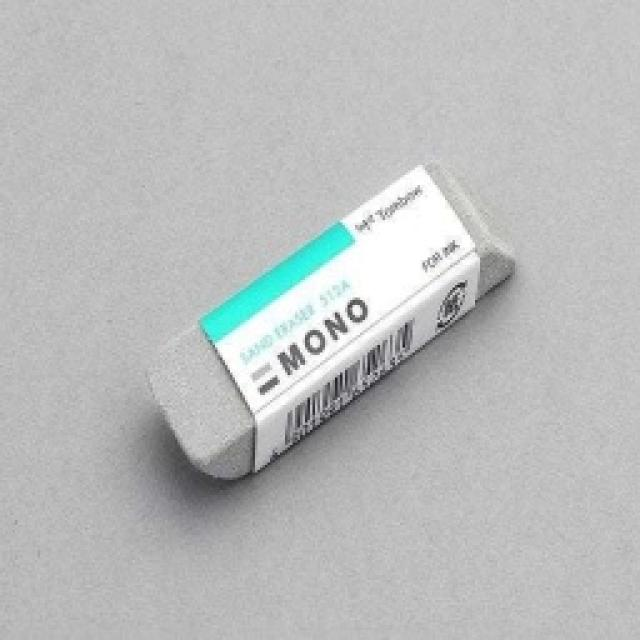Silgi: (142, 158, 518, 482)
